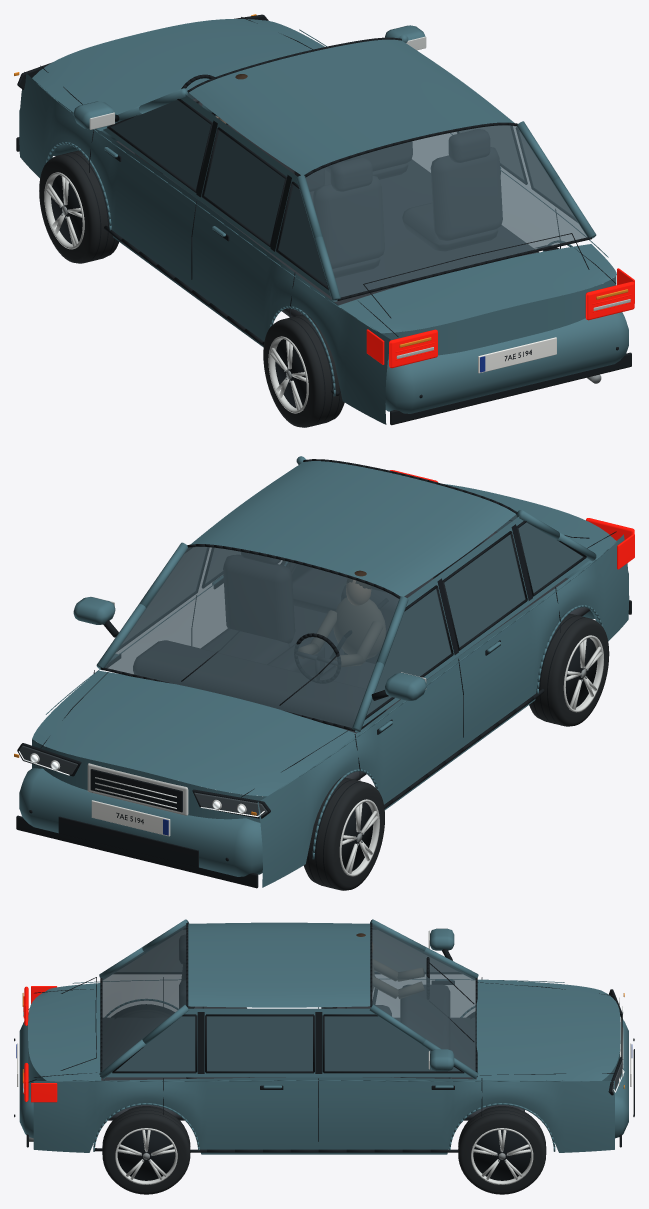
File: hatchback.glb
The picture shows the model from 3 angles, top to bottom: view 1: azimuth 30°, elevation 25°; view 2: azimuth 150°, elevation 25°; view 3: azimuth 270°, elevation 25°; orthographic projection. The views are drawn at different scales.
Parts seen in each view (by area): view 1: dynamic_body_Metallic car body paint, dynamic_body_Car clear tinted glass, dynamic_body_Automotive charcoal upholstery, dynamic_body_Recessed automotive panel seams, wheel_RL_Tyre rubber with satin sidewalls, wheel_FL_Tyre rubber with satin sidewalls, dynamic_body_Rear brake lamps, wheel_FL_Chrome trim, wheel_RL_Chrome trim, wheel_RL_Recessed automotive panel seams, wheel_FL_Recessed automotive panel seams, dynamic_body_Registration plate white; view 2: dynamic_body_Metallic car body paint, dynamic_body_Car clear tinted glass, dynamic_body_Automotive charcoal upholstery, dynamic_body_Recessed automotive panel seams, wheel_FL_Tyre rubber with satin sidewalls, wheel_RL_Tyre rubber with satin sidewalls, dynamic_body_Coat fabric, dynamic_body_Chrome trim, wheel_FL_Chrome trim, wheel_RL_Chrome trim, wheel_FL_Recessed automotive panel seams, wheel_RL_Recessed automotive panel seams (+3 smaller); view 3: dynamic_body_Metallic car body paint, dynamic_body_Car clear tinted glass, dynamic_body_Recessed automotive panel seams, dynamic_body_Automotive charcoal upholstery, wheel_RR_Tyre rubber with satin sidewalls, wheel_FR_Tyre rubber with satin sidewalls, wheel_RR_Recessed automotive panel seams, wheel_FR_Recessed automotive panel seams, wheel_RR_Chrome trim, wheel_FR_Chrome trim, dynamic_body_Rear brake lamps, dynamic_body_Coat fabric.
Boxes of the visible parts, x1=… form: dynamic_body_Metallic car body paint: x1=19, y1=19, x2=628, y2=424; dynamic_body_Car clear tinted glass: x1=111, y1=93, x2=587, y2=297; dynamic_body_Automotive charcoal upholstery: x1=82, y1=98, x2=538, y2=317; dynamic_body_Recessed automotive panel seams: x1=16, y1=14, x2=631, y2=425; wheel_RL_Tyre rubber with satin sidewalls: x1=263, y1=314, x2=344, y2=427; wheel_FL_Tyre rubber with satin sidewalls: x1=39, y1=151, x2=118, y2=263; dynamic_body_Rear brake lamps: x1=366, y1=268, x2=634, y2=368; wheel_FL_Chrome trim: x1=44, y1=172, x2=84, y2=249; wheel_RL_Chrome trim: x1=268, y1=336, x2=308, y2=413; wheel_RL_Recessed automotive panel seams: x1=275, y1=315, x2=340, y2=425; wheel_FL_Recessed automotive panel seams: x1=51, y1=150, x2=114, y2=262; dynamic_body_Registration plate white: x1=478, y1=337, x2=556, y2=373; dynamic_body_Metallic car body paint: x1=19, y1=456, x2=629, y2=887; dynamic_body_Car clear tinted glass: x1=105, y1=514, x2=582, y2=727; dynamic_body_Automotive charcoal upholstery: x1=133, y1=531, x2=590, y2=780; dynamic_body_Recessed automotive panel seams: x1=16, y1=459, x2=631, y2=888; wheel_FL_Tyre rubber with satin sidewalls: x1=303, y1=777, x2=384, y2=890; wheel_RL_Tyre rubber with satin sidewalls: x1=529, y1=613, x2=609, y2=726; dynamic_body_Coat fabric: x1=298, y1=597, x2=385, y2=666; dynamic_body_Chrome trim: x1=30, y1=596, x2=426, y2=815; wheel_FL_Chrome trim: x1=339, y1=799, x2=379, y2=876; wheel_RL_Chrome trim: x1=563, y1=635, x2=603, y2=712; wheel_FL_Recessed automotive panel seams: x1=308, y1=778, x2=373, y2=889; wheel_RL_Recessed automotive panel seams: x1=533, y1=613, x2=597, y2=724; dynamic_body_Metallic car body paint: x1=19, y1=919, x2=628, y2=1154; dynamic_body_Car clear tinted glass: x1=102, y1=924, x2=475, y2=1071; dynamic_body_Recessed automotive panel seams: x1=14, y1=922, x2=634, y2=1152; dynamic_body_Automotive charcoal upholstery: x1=101, y1=935, x2=524, y2=1120; wheel_RR_Tyre rubber with satin sidewalls: x1=102, y1=1106, x2=190, y2=1194; wheel_FR_Tyre rubber with satin sidewalls: x1=458, y1=1106, x2=546, y2=1194; wheel_RR_Recessed automotive panel seams: x1=103, y1=1107, x2=189, y2=1180; wheel_FR_Recessed automotive panel seams: x1=458, y1=1107, x2=545, y2=1180; wheel_RR_Chrome trim: x1=115, y1=1128, x2=177, y2=1184; wheel_FR_Chrome trim: x1=471, y1=1128, x2=533, y2=1184; dynamic_body_Rear brake lamps: x1=23, y1=986, x2=57, y2=1102; dynamic_body_Coat fabric: x1=372, y1=959, x2=424, y2=998.
Bounding box in the file's own units: 2.27 × 1.47 × 4.49.
